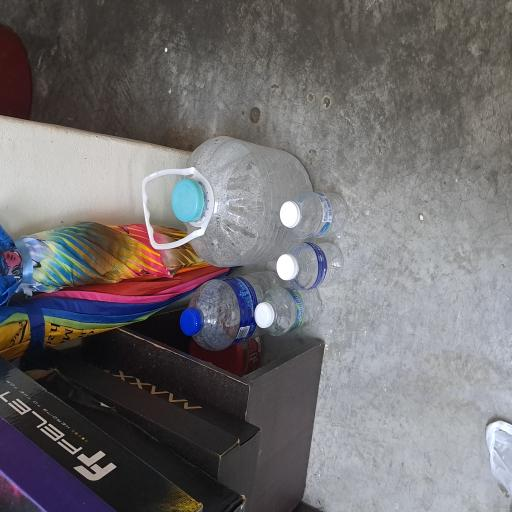plastic bottle: (185, 244, 277, 420), (122, 257, 186, 375), (128, 355, 178, 431), (202, 392, 242, 464), (169, 386, 204, 456)
plastic bottle cap: (216, 230, 252, 276), (173, 362, 198, 400), (131, 238, 154, 273), (137, 334, 159, 368), (213, 371, 235, 402)
